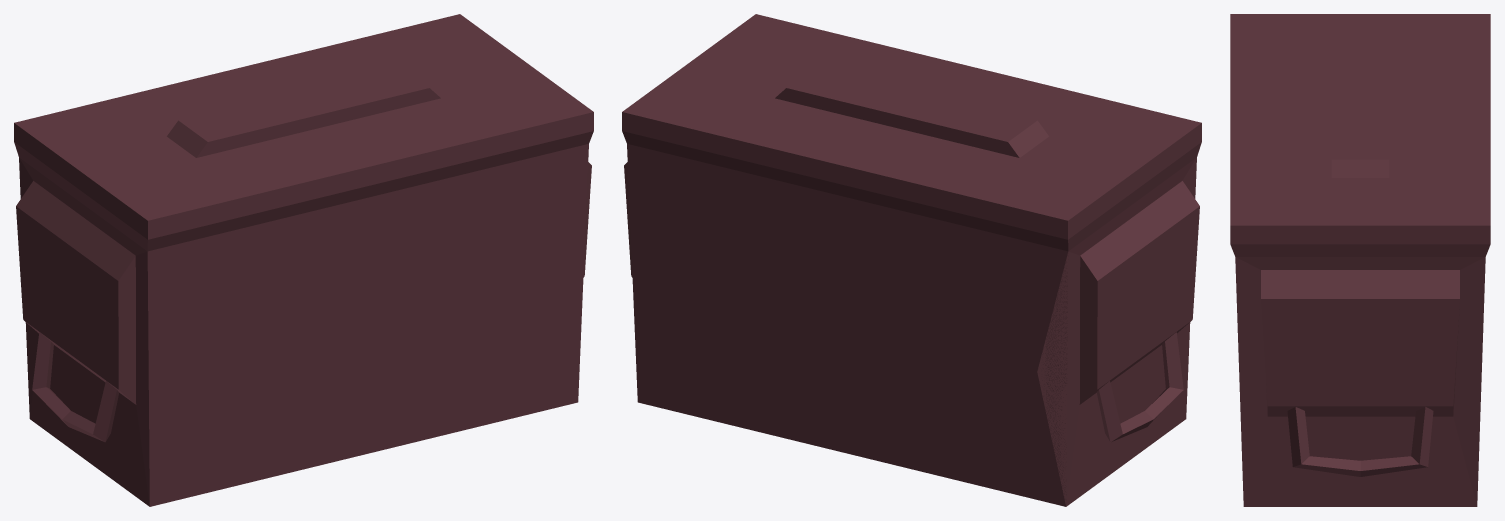
Rendered from ammo-box-explosives.fbx.
3 renders of one model, left to right at view 1: azimuth 30°, elevation 25°; view 2: azimuth 150°, elevation 25°; view 3: azimuth 270°, elevation 25°, orthographic. The views are drawn at different scales.
Visible parts, largest first — view 1: ammo-box-explosives; view 2: ammo-box-explosives; view 3: ammo-box-explosives.
Part boxes in pixels (bbox=[...]): ammo-box-explosives: bbox=[14, 14, 593, 506]; ammo-box-explosives: bbox=[622, 14, 1201, 506]; ammo-box-explosives: bbox=[1230, 14, 1490, 506].
Size of the model in its own units: 0.3162 by 0.1915 by 0.1515.
